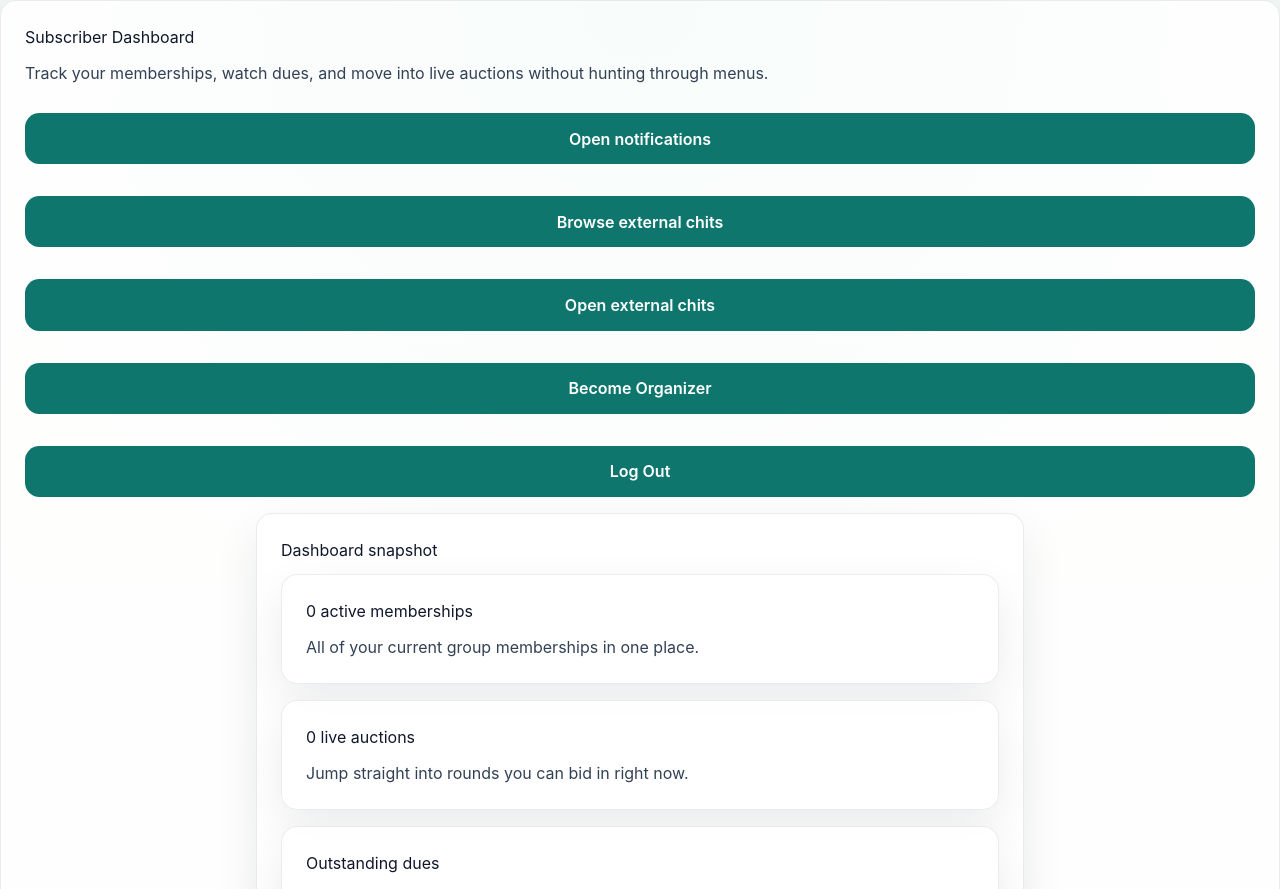
Test: shows a pending owner request state after submit
Click the button "Become Organizer".
click(640, 388)  # box x1=25 y1=363 x2=1255 y2=414
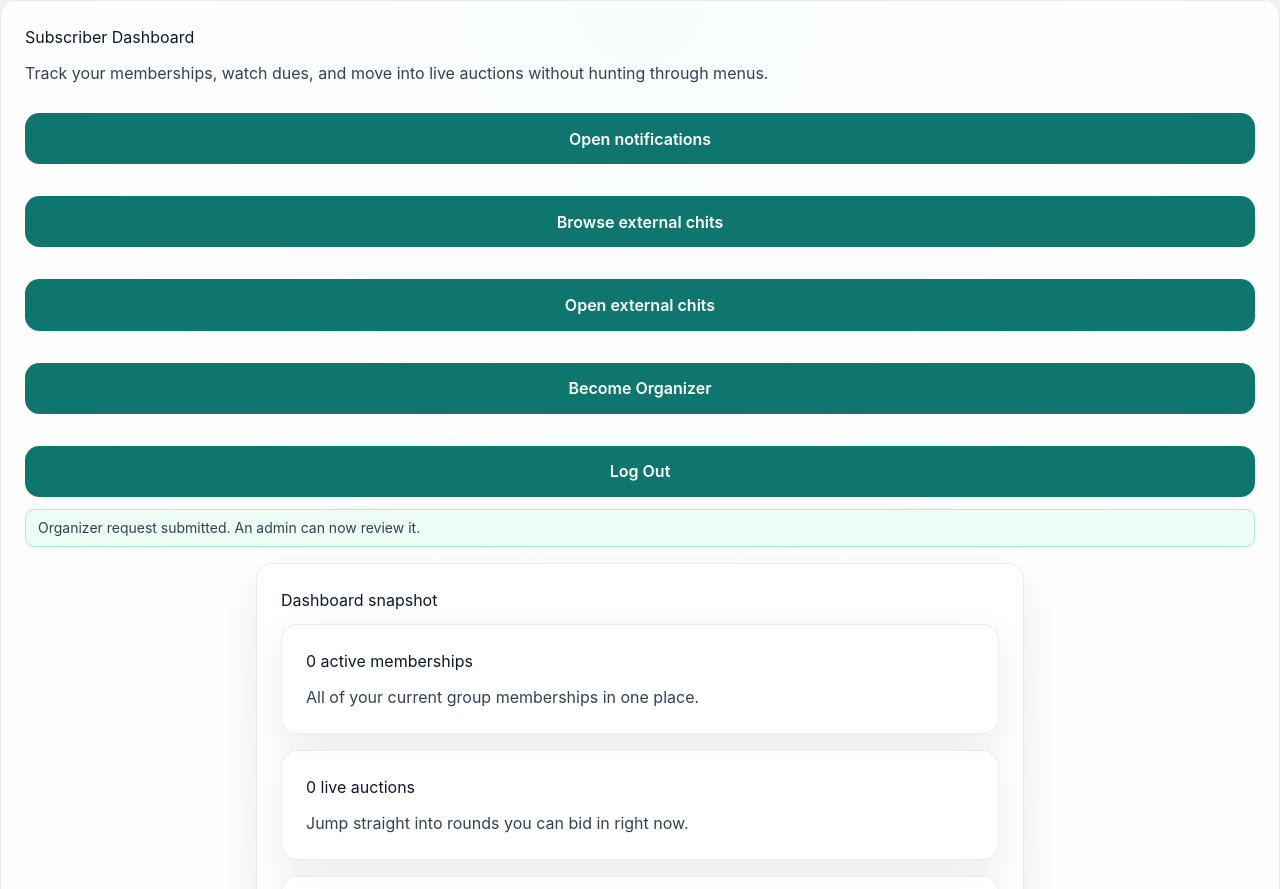
Result: the text "Organizer request submitted. An admin can now review it." is shown at x1=25 y1=509 x2=1255 y2=547
